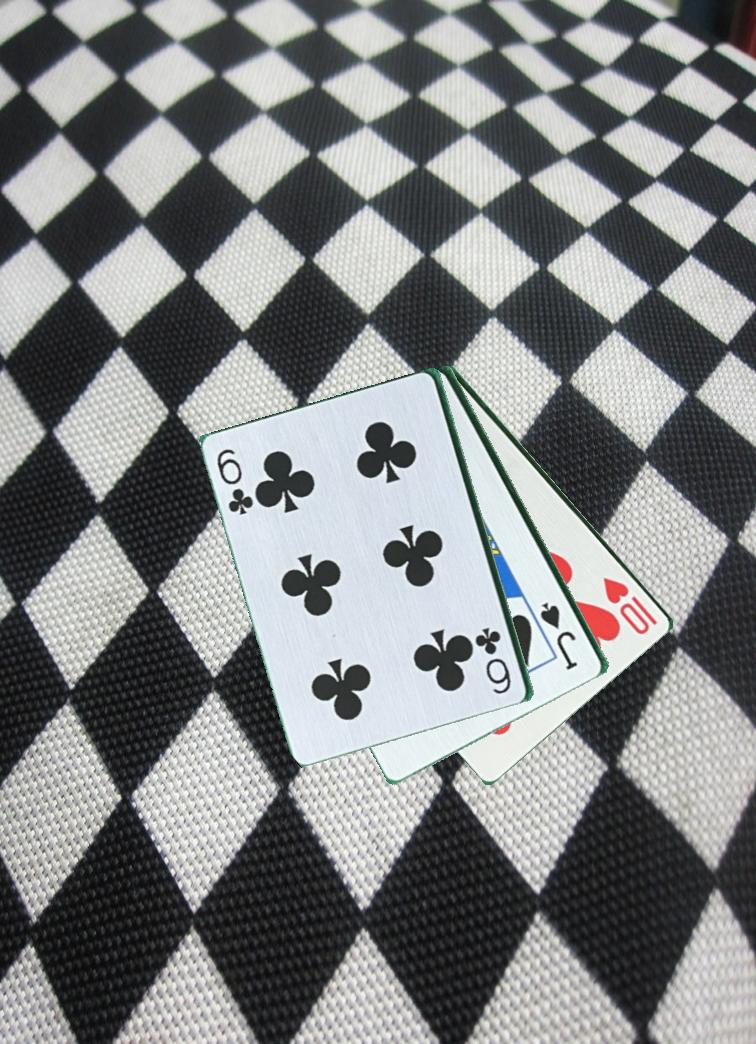6c: (213, 434, 259, 519), (477, 624, 515, 698)
js: (538, 599, 581, 672)
th: (600, 573, 661, 638)
